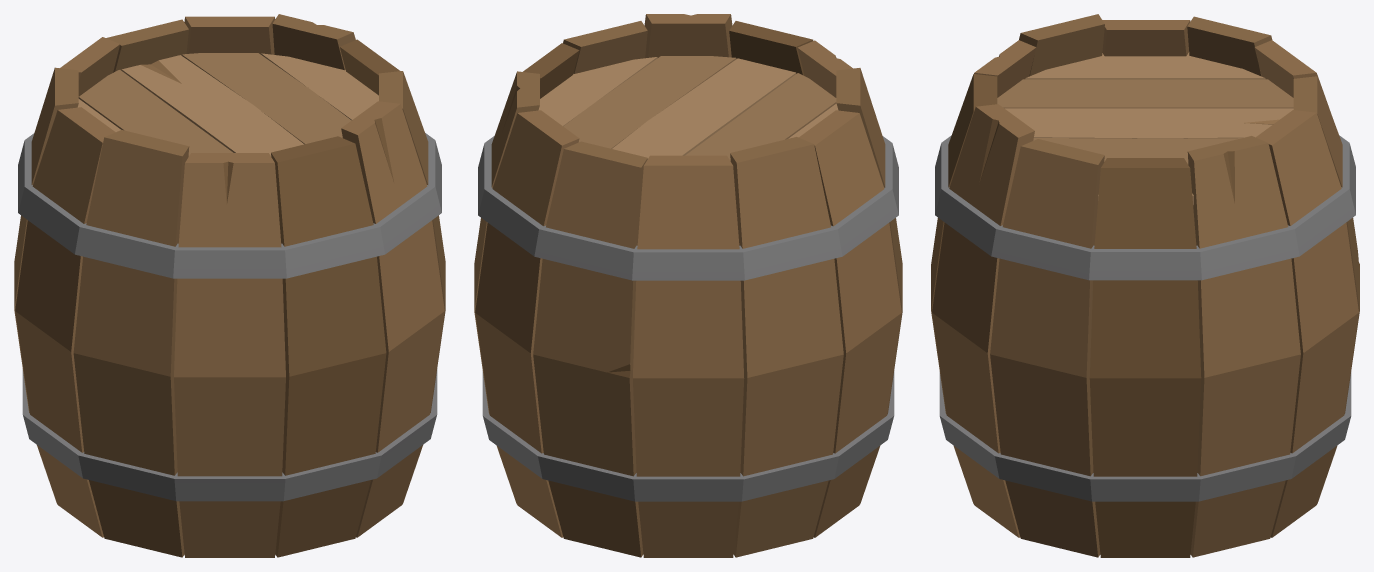
File: Mesh_Props_Barrel_03.FBX
The picture shows the model from 3 angles, left to right: view 1: azimuth 30°, elevation 25°; view 2: azimuth 150°, elevation 25°; view 3: azimuth 270°, elevation 25°; orthographic projection.
Visible parts, largest first — view 1: Mesh_Props_Barrel_03; view 2: Mesh_Props_Barrel_03; view 3: Mesh_Props_Barrel_03.
Boxes of the visible parts, box(x1,y1,x2,y2) form: Mesh_Props_Barrel_03: box(14, 14, 445, 557); Mesh_Props_Barrel_03: box(474, 14, 902, 557); Mesh_Props_Barrel_03: box(931, 14, 1359, 557).
Bounding box in the file's own units: 29.48 × 30.29 × 29.48.
